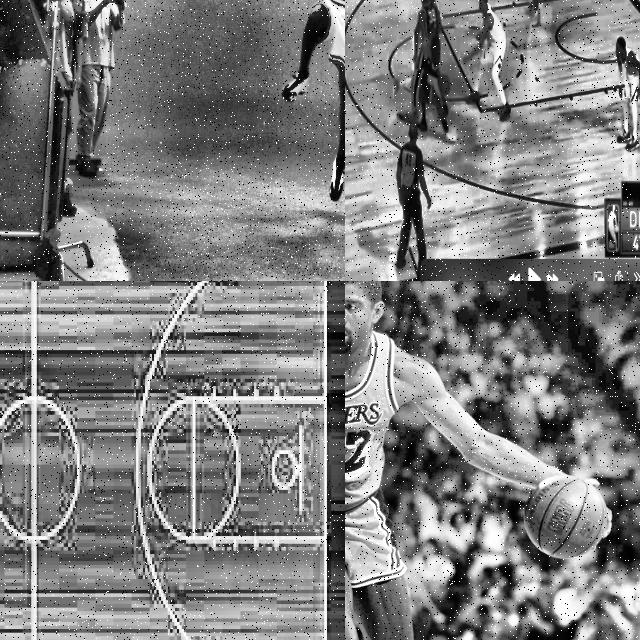Basketball: (525, 476, 609, 559), (437, 74, 450, 97)
